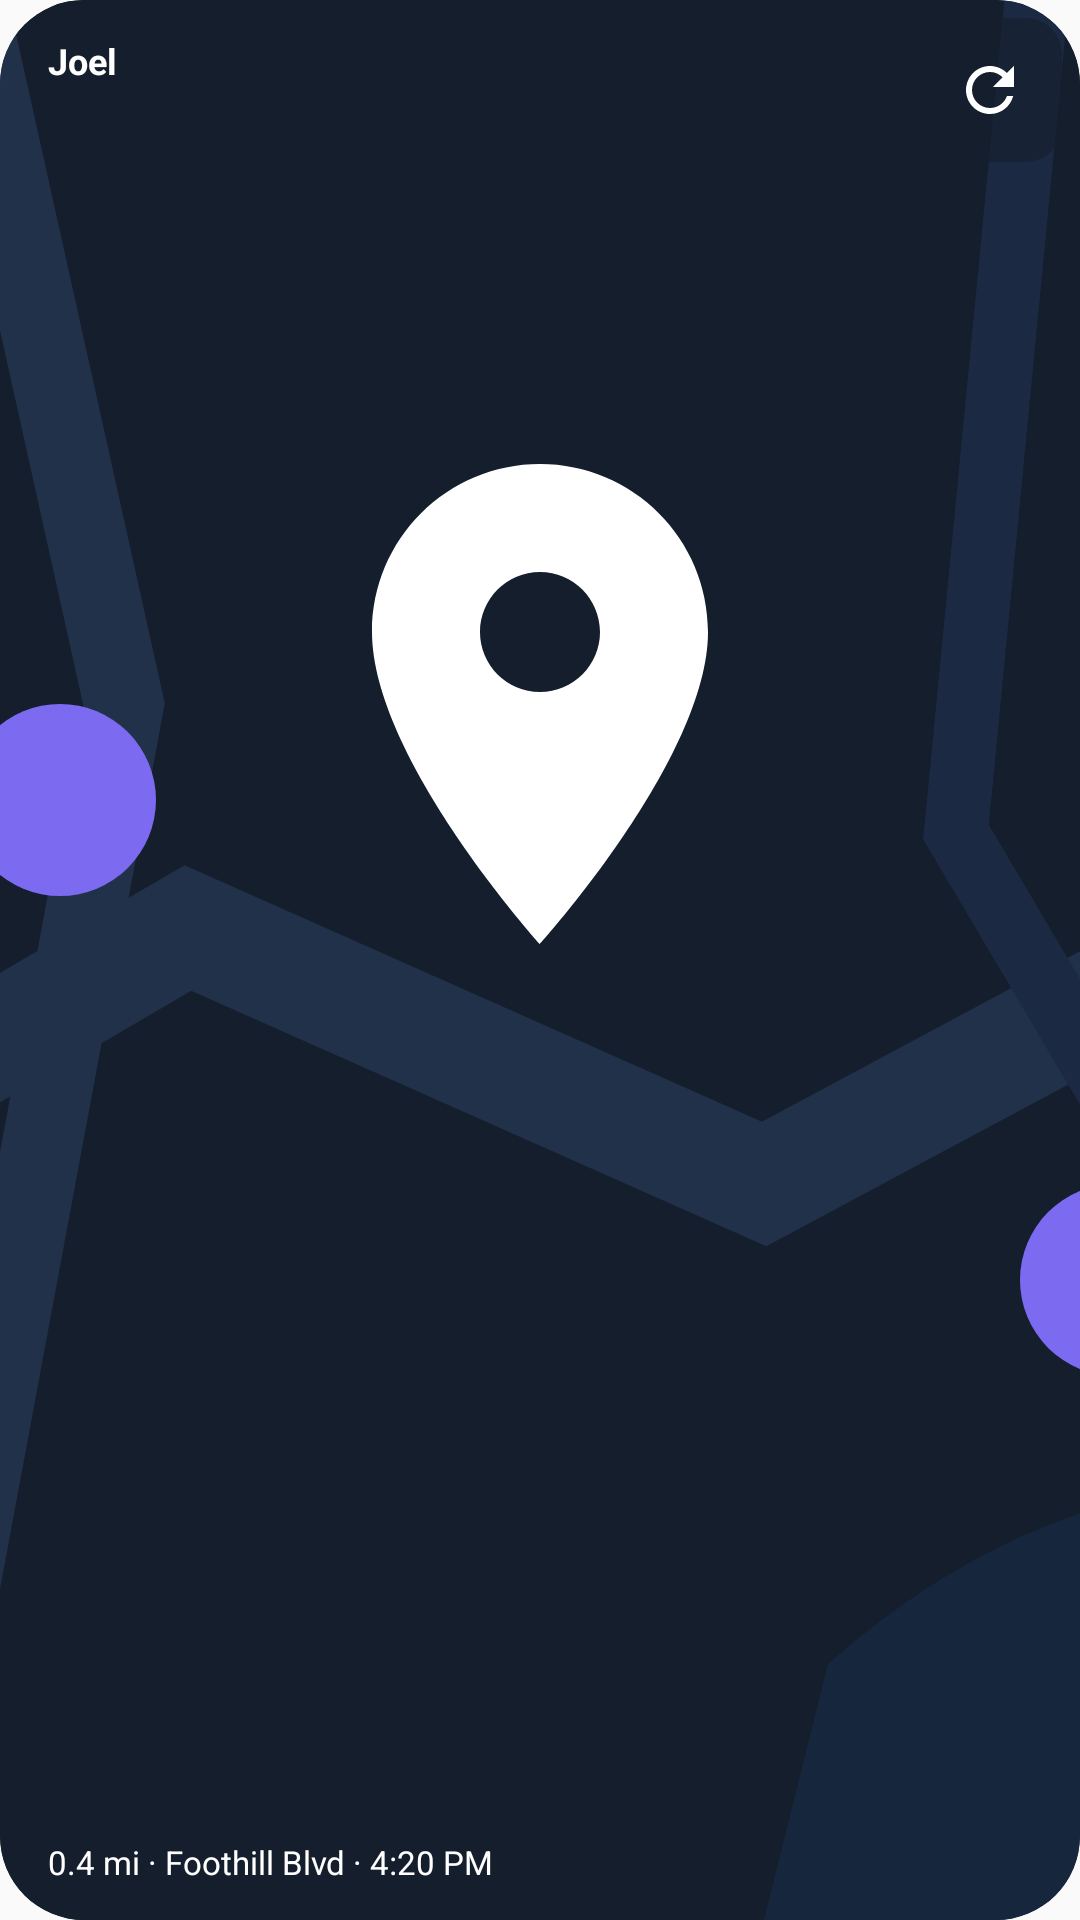

Screen size 1080×1920. Icon name, then its box in pixels as (x1, y1, x2, y2):
Refresh: (966, 66, 1014, 114)
